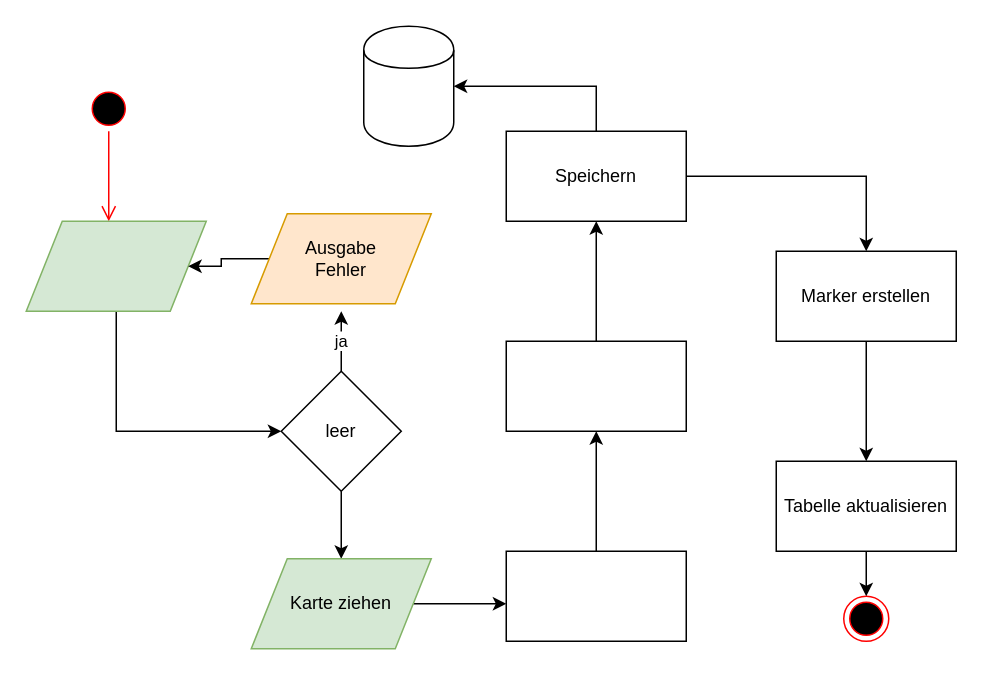
Some shapes in this 983 by 675 pixel diagram are drawn without their labels. Each missing label, with the centre of its shape:
Eingabe Ortsbezeichnung: point 115,265
LAT/LNG in Formfelder schreiben: point 595,385
Mitte Karte liefert LAT/LNG: point 595,595
